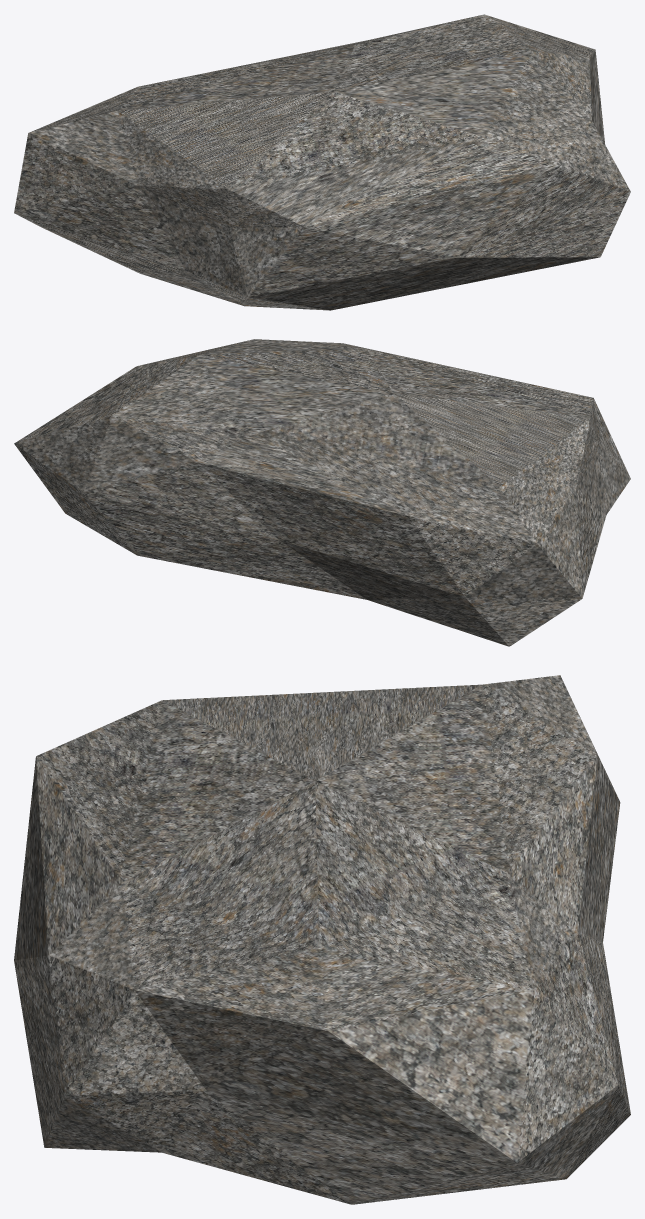
The model's file is granite-slab.glb.
3 renders of one model, top to bottom at view 1: azimuth 30°, elevation 25°; view 2: azimuth 150°, elevation 25°; view 3: azimuth 270°, elevation 25°, orthographic. The views are drawn at different scales.
Visible parts, largest first — view 1: granite-slab; view 2: granite-slab; view 3: granite-slab.
Part boxes in pixels (x1,y1,x2,y2): granite-slab: (14, 14, 630, 310); granite-slab: (14, 339, 630, 646); granite-slab: (14, 675, 630, 1204).
Bounding box in the file's own units: 1.31 × 0.3214 × 0.7679.
Materials: 1 (1 with a texture image).
